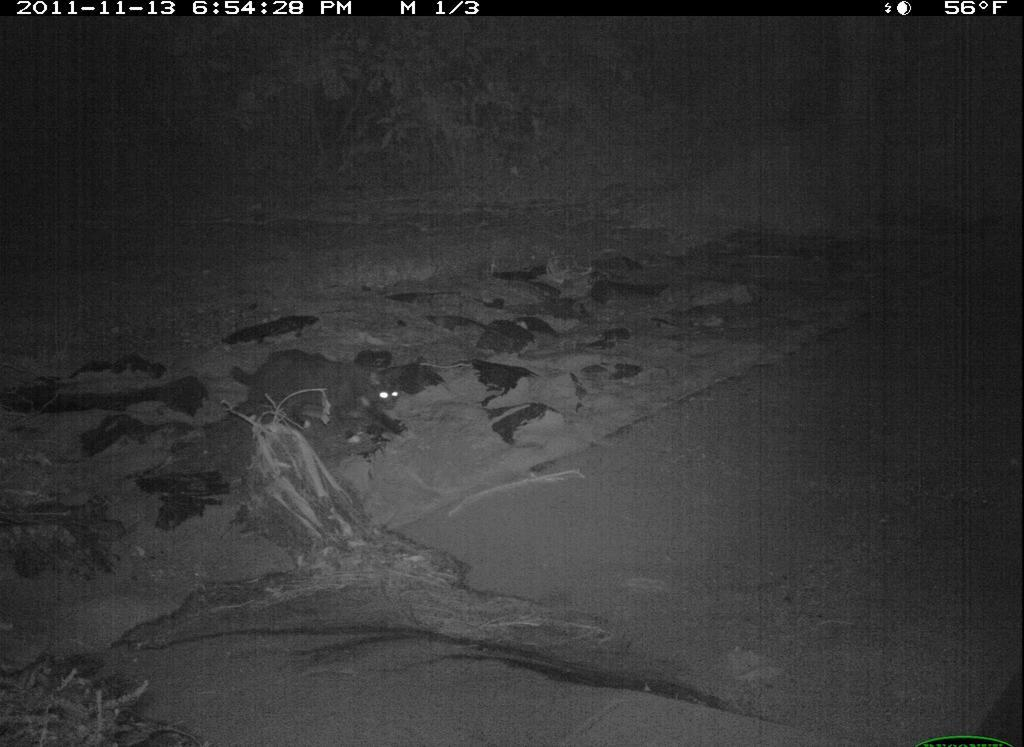cat: (219, 351, 415, 447)
